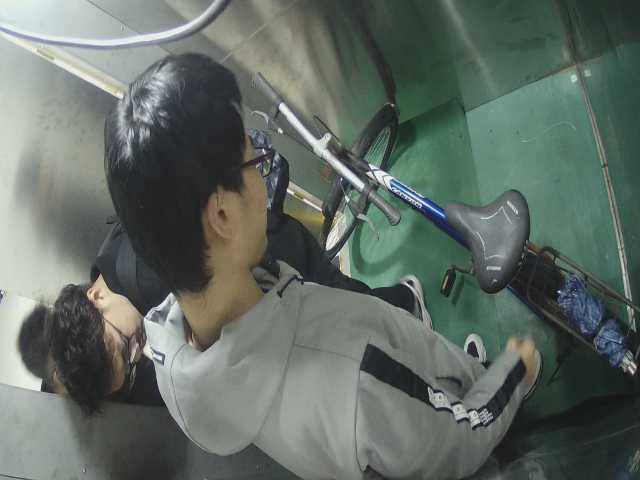bicycle: (243, 67, 638, 389)
person: (113, 63, 539, 478), (49, 213, 181, 414)
